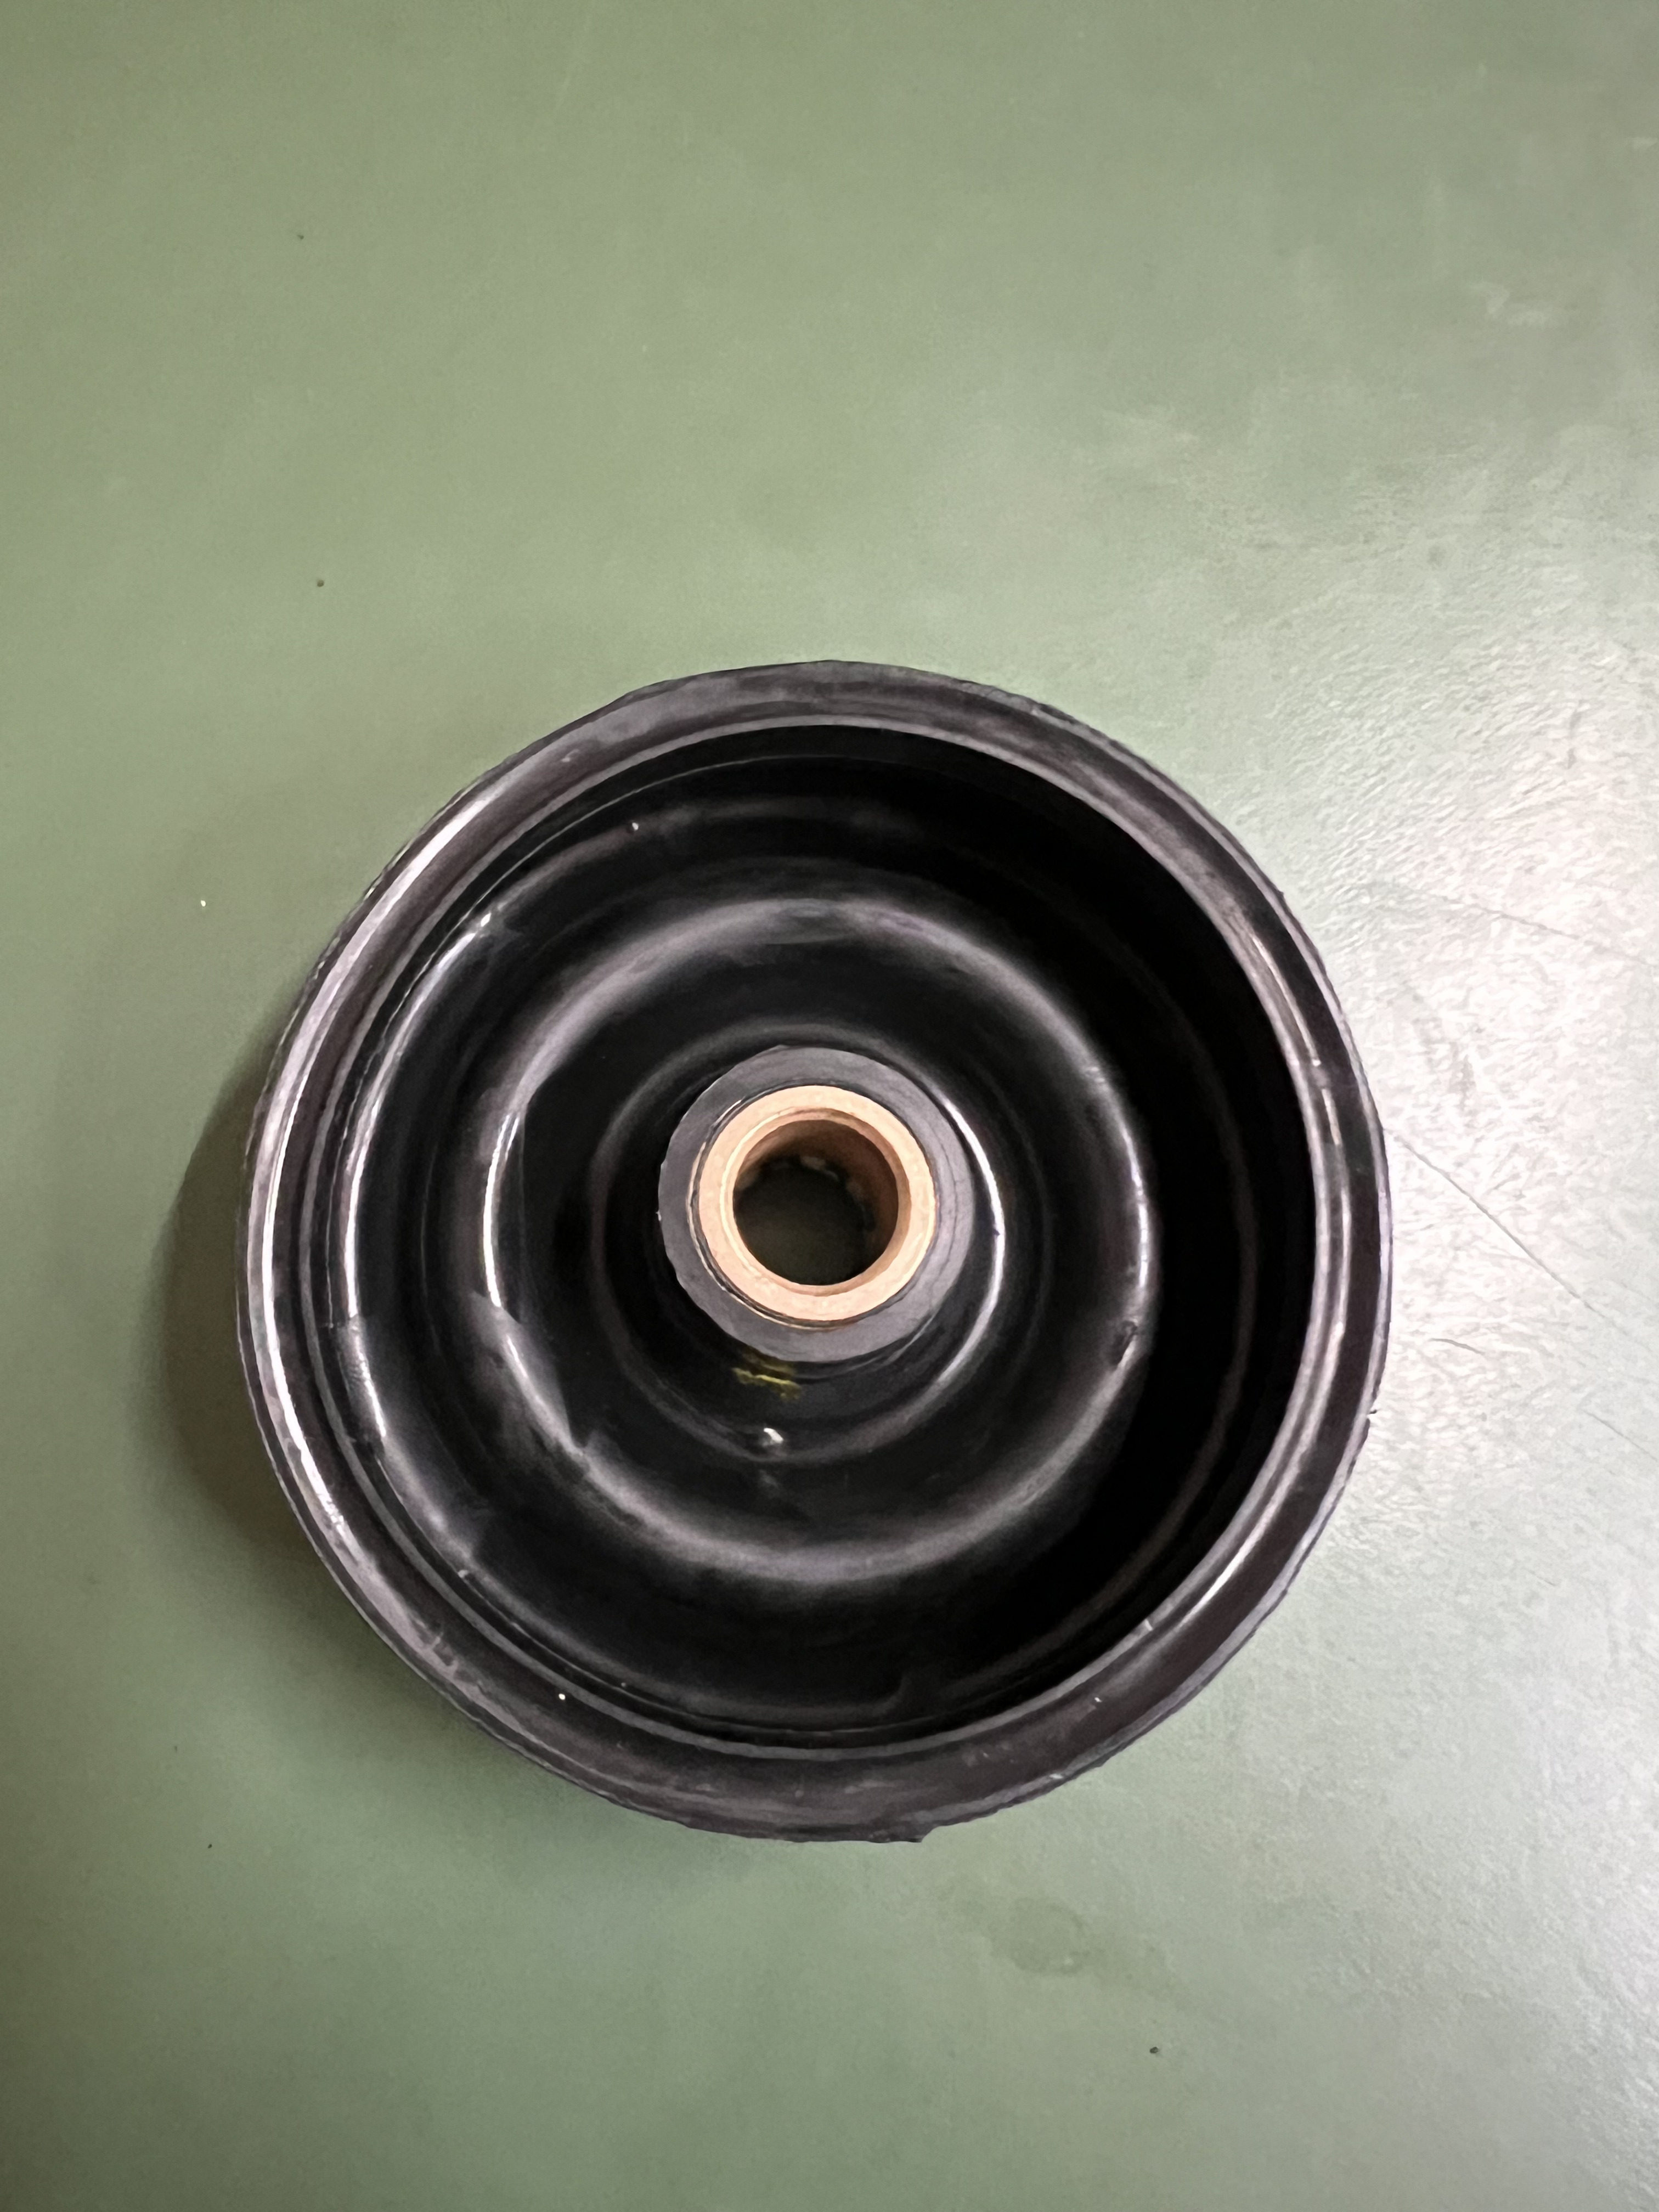lever: (216, 676, 1415, 1850)
